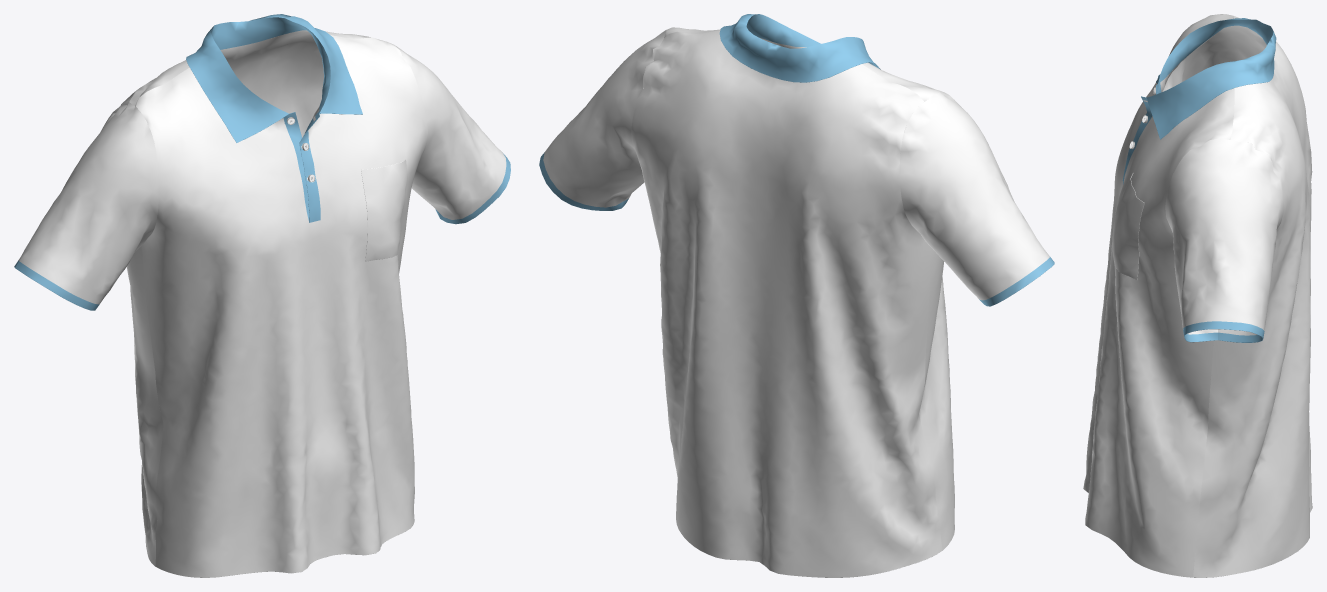
File: t-shirt_polo_lengan_pendek.glb
3 renders of one model, left to right at view 1: azimuth 30°, elevation 25°; view 2: azimuth 150°, elevation 25°; view 3: azimuth 270°, elevation 25°, orthographic. The views are drawn at different scales.
Parts seen in each view (by area): view 1: Object_12, Object_18, Object_9, Object_11, Object_17, Object_16, Object_10, Object_14; view 2: Object_9, Object_18, Object_17, Object_12, Object_11, Object_14; view 3: Object_12, Object_9, Object_17, Object_11, Object_18, Object_16, Object_13, Object_10.
Boxes of the visible parts, x1,y1,x2,y2 form: Object_12: (135, 35, 427, 577); Object_18: (18, 102, 158, 304); Object_9: (113, 30, 370, 566); Object_11: (186, 14, 362, 142); Object_17: (396, 46, 506, 219); Object_16: (361, 159, 406, 261); Object_10: (283, 111, 320, 222); Object_14: (14, 260, 99, 310); Object_9: (631, 30, 942, 577); Object_18: (899, 92, 1049, 300); Object_17: (543, 30, 665, 207); Object_12: (664, 27, 954, 550); Object_11: (719, 14, 879, 82); Object_14: (979, 257, 1054, 306); Object_12: (1083, 14, 1234, 577); Object_9: (1193, 16, 1312, 577); Object_17: (1165, 138, 1283, 335); Object_11: (1147, 18, 1276, 139); Object_18: (1166, 25, 1266, 89); Object_16: (1112, 173, 1144, 280); Object_13: (1183, 321, 1264, 342); Object_10: (1122, 83, 1161, 184).
Bounding box in the file's own units: 705 × 689 × 296.
